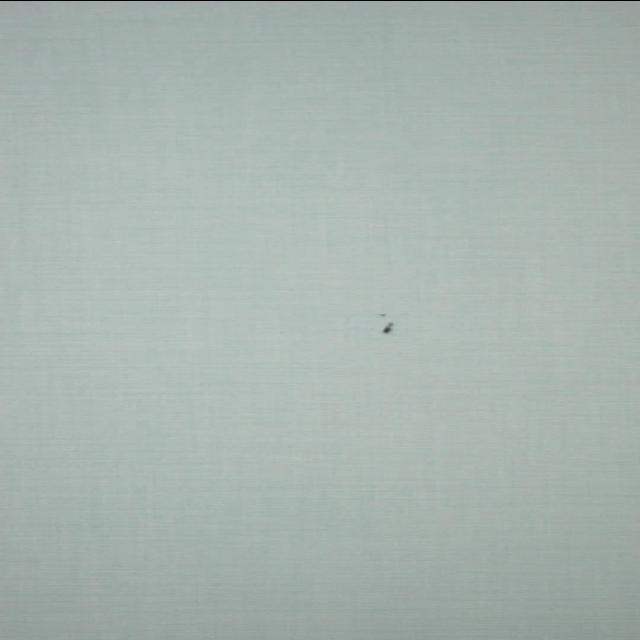dirty: (378, 312, 398, 334)
